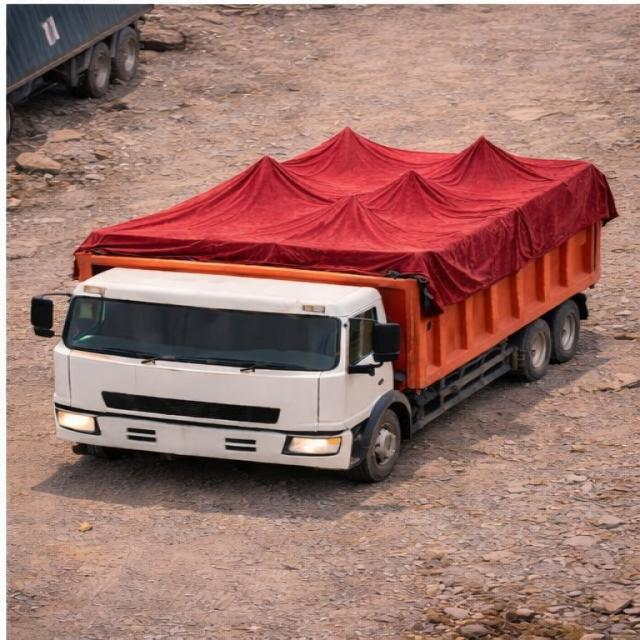Box: (73, 126, 623, 265)
Truck: (28, 101, 634, 478)
